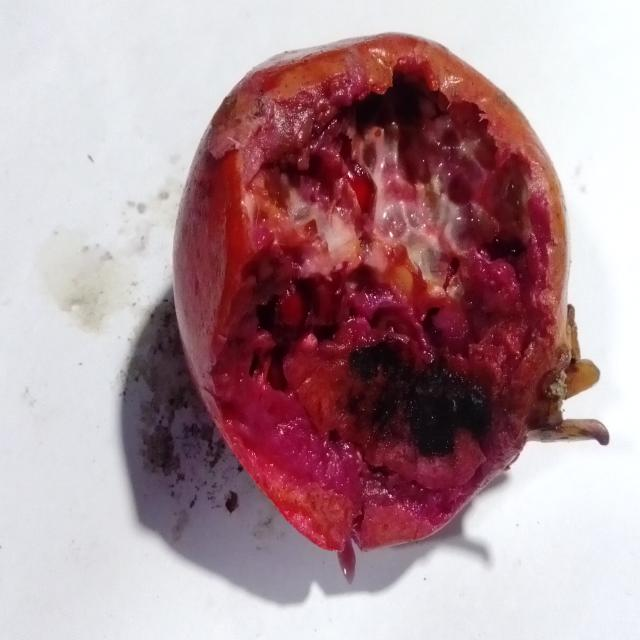Rotten: (170, 29, 608, 560)
